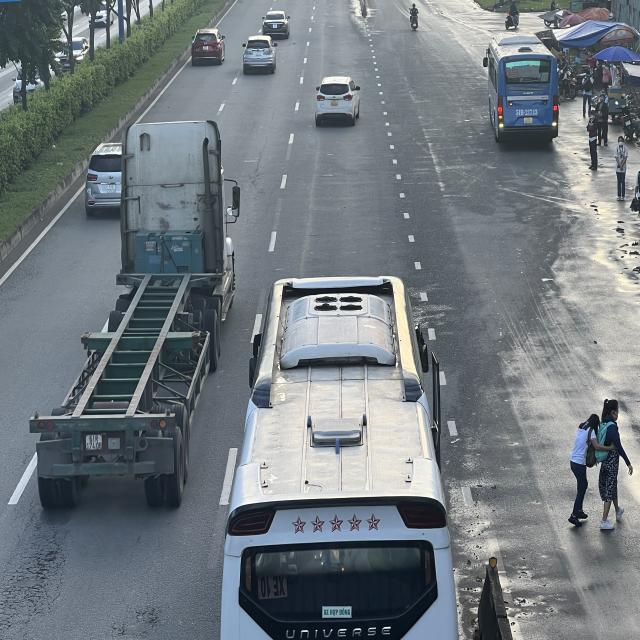car: (316, 75, 364, 126), (241, 37, 278, 75), (191, 26, 226, 65), (262, 10, 292, 40)
coach: (228, 275, 455, 637), (486, 34, 561, 140)
container: (36, 121, 241, 506)
